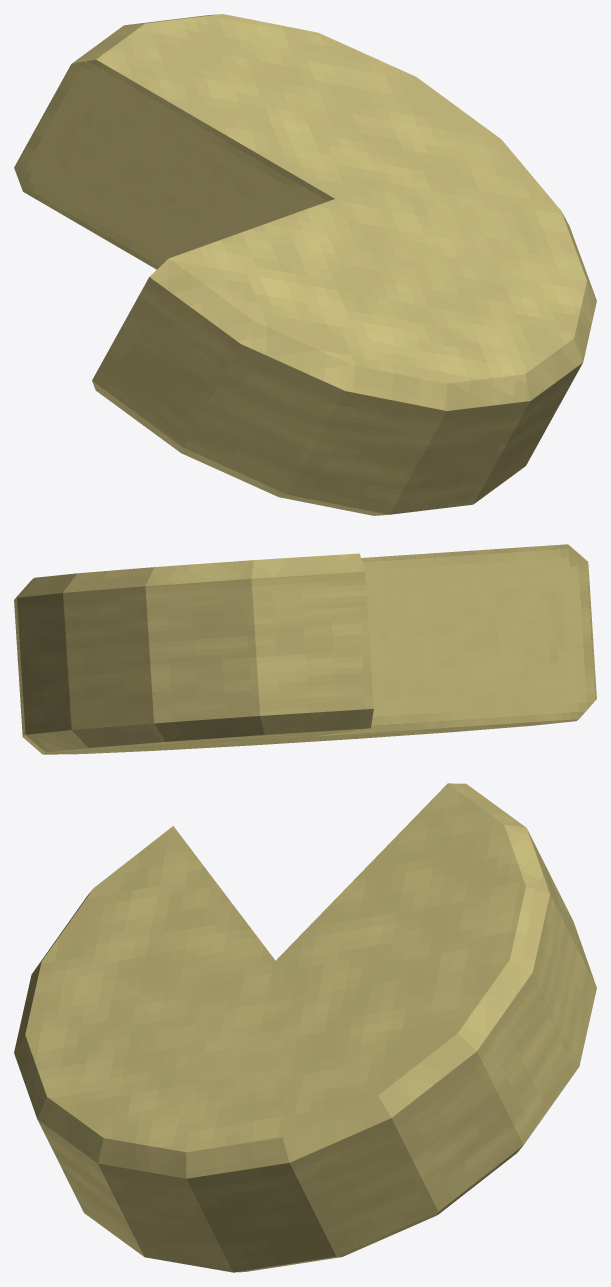
Rendered from cheese.glb.
The picture shows the model from 3 angles, top to bottom: view 1: azimuth 30°, elevation 25°; view 2: azimuth 150°, elevation 25°; view 3: azimuth 270°, elevation 25°; orthographic projection. The views are drawn at different scales.
Visible parts, largest first — view 1: Cheese; view 2: Cheese; view 3: Cheese.
Boxes of the visible parts, x1,y1,x2,y2 form: Cheese: (14, 14, 596, 515); Cheese: (14, 544, 596, 754); Cheese: (14, 783, 596, 1272).
Bounding box in the file's own units: 1.61 × 1.1 × 1.64.
Materials: 1 (1 with a texture image).
